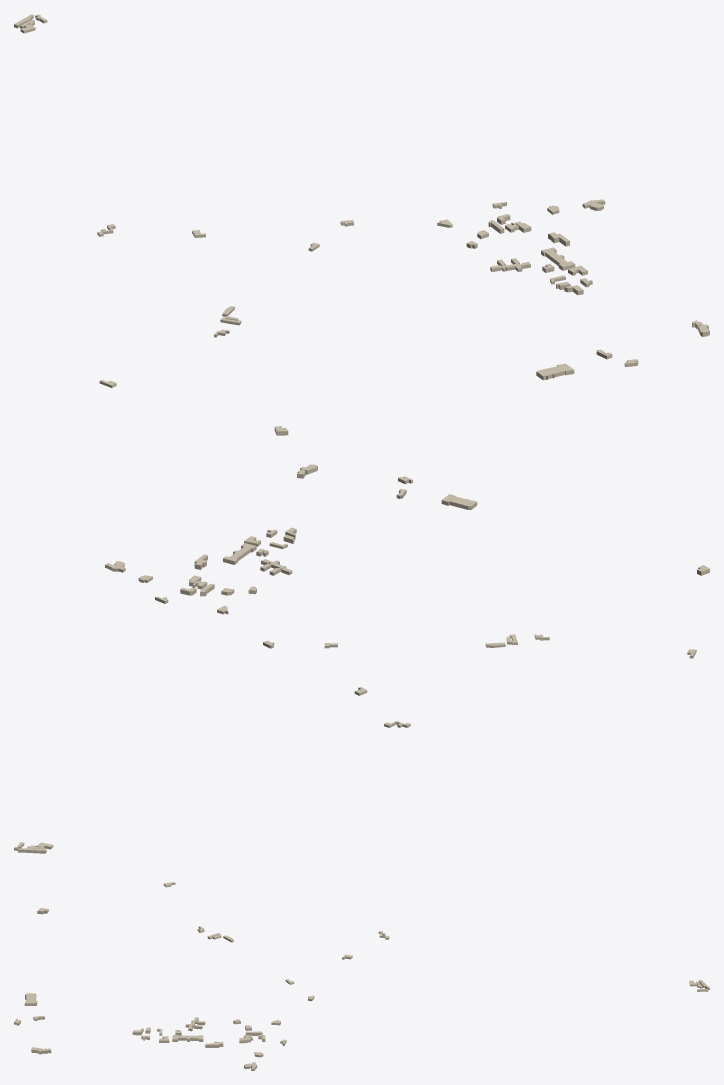
3 views of the same model, one above another, from view 1: azimuth 30°, elevation 25°; view 2: azimuth 150°, elevation 25°; view 3: azimuth 270°, elevation 25° (orthographic). The views are drawn at different scales.
Bounding box in the file's own units: 1414 × 15.18 × 2211.
